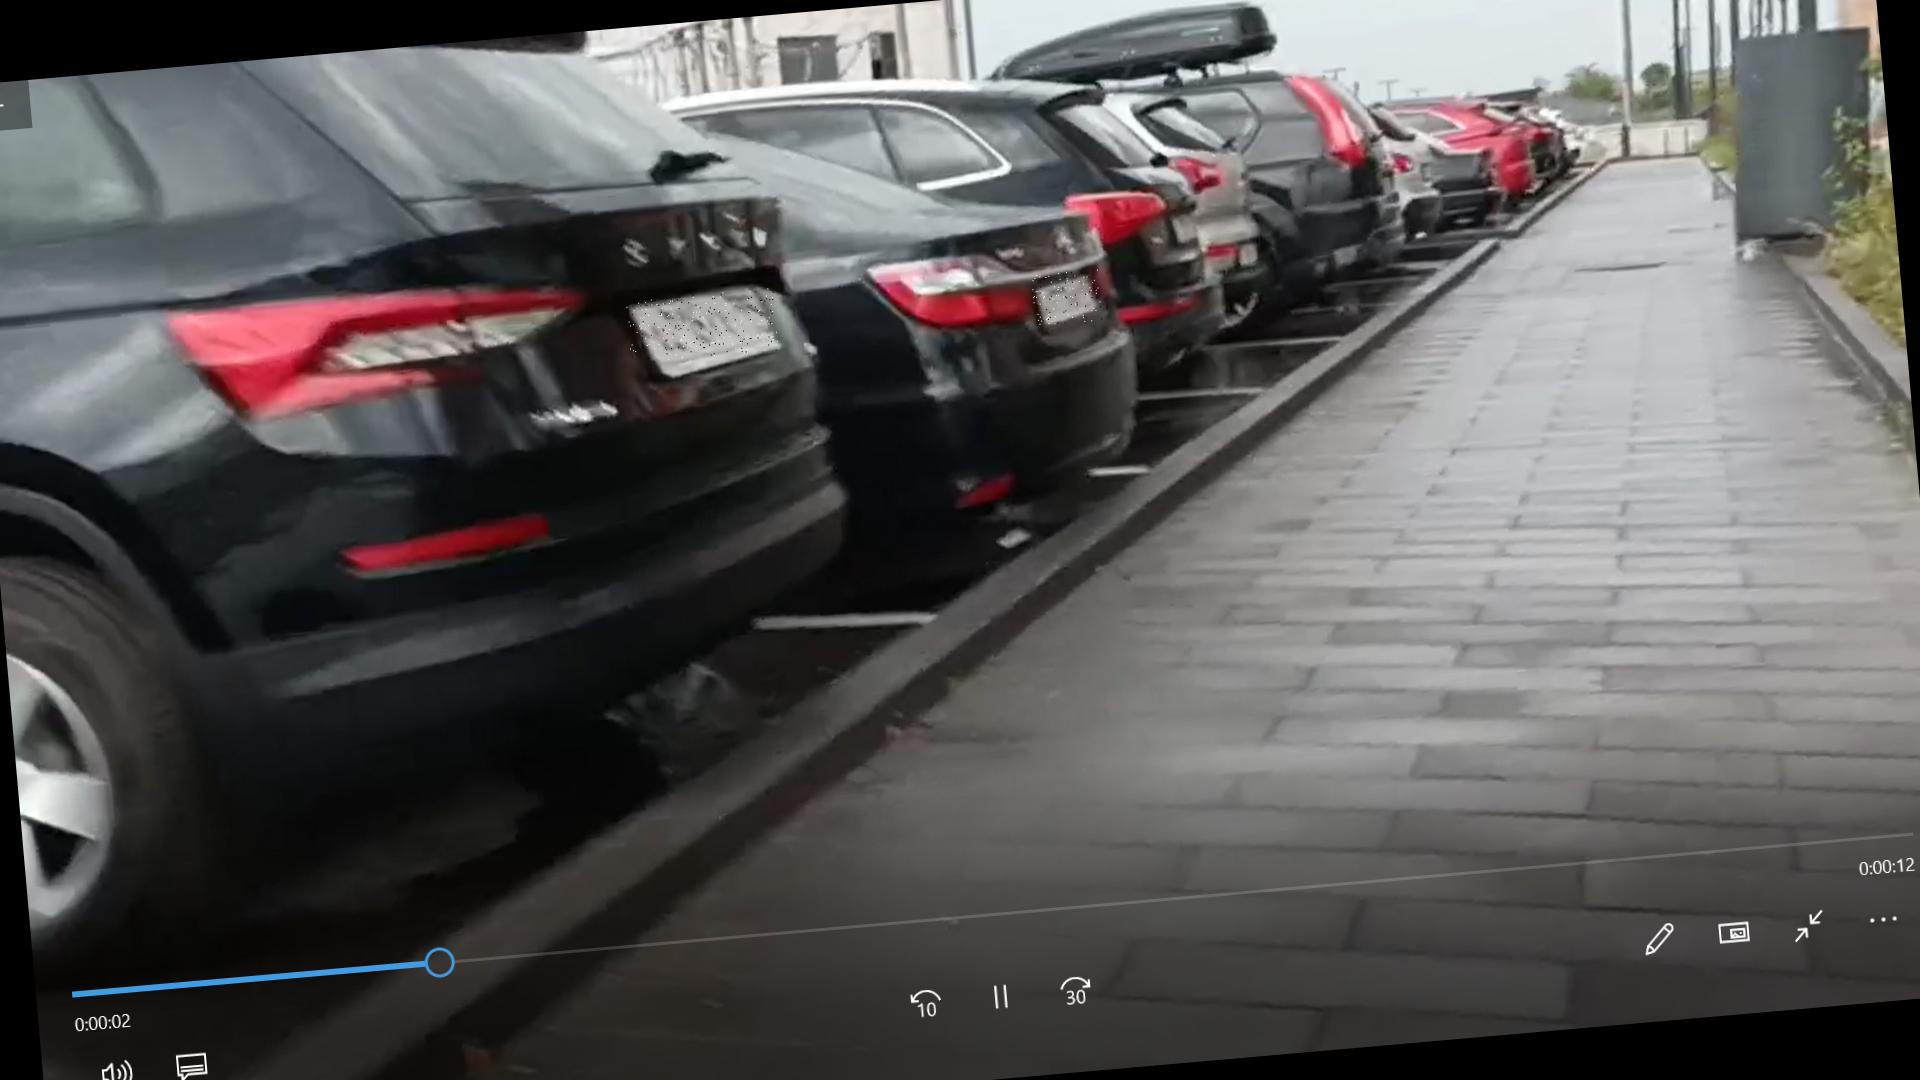plate: (627, 289, 780, 365), (1033, 270, 1104, 327)
